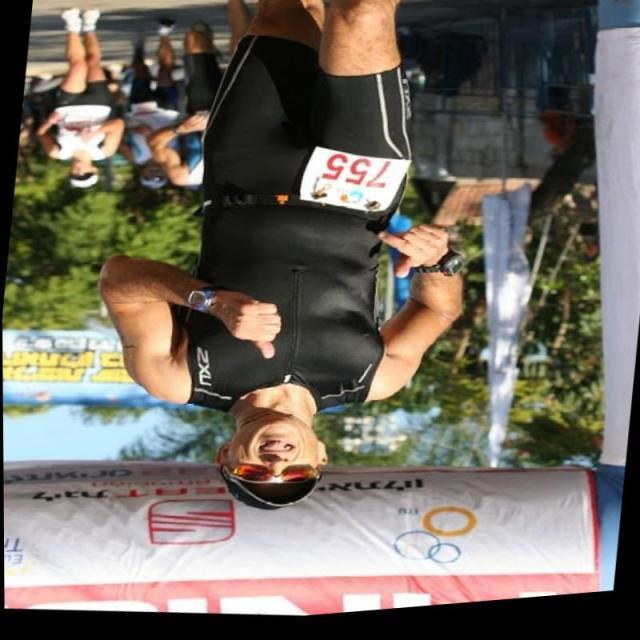dorsal: (294, 144, 405, 226)
